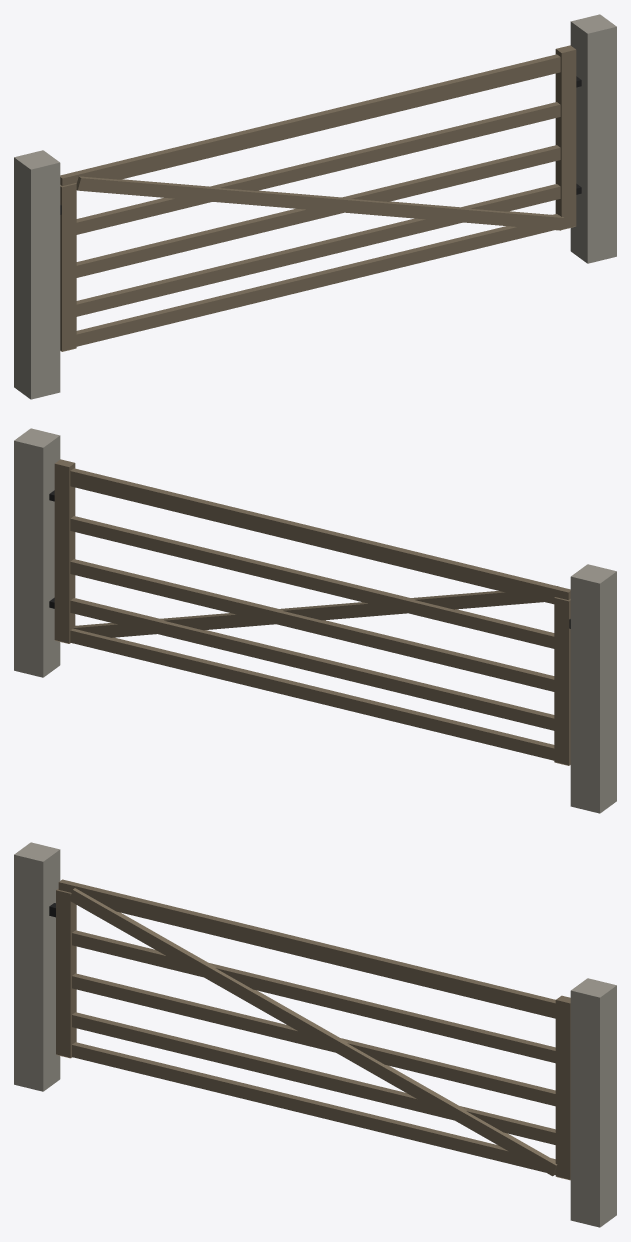
File: boundary.gate.field_bar_c.glb
3 renders of one model, top to bottom at view 1: azimuth 30°, elevation 25°; view 2: azimuth 150°, elevation 25°; view 3: azimuth 330°, elevation 25°, orthographic.
Visible parts, largest first — view 1: main__galv_775, main__glaze_999, main__concrete_775; view 2: main__galv_775, main__glaze_999, main__concrete_775; view 3: main__galv_775, main__glaze_999, main__concrete_775.
Boxes of the visible parts, left/top/right/bottom form: main__galv_775: left=60, top=54, right=564, bottom=346; main__glaze_999: left=14, top=14, right=616, bottom=399; main__concrete_775: left=60, top=45, right=576, bottom=351; main__galv_775: left=70, top=468, right=570, bottom=760; main__glaze_999: left=14, top=428, right=616, bottom=813; main__concrete_775: left=54, top=459, right=570, bottom=765; main__galv_775: left=58, top=879, right=557, bottom=1176; main__glaze_999: left=14, top=842, right=616, bottom=1227; main__concrete_775: left=56, top=888, right=570, bottom=1180.
Bounding box in the file's own units: 4 × 1.5 × 0.2.
